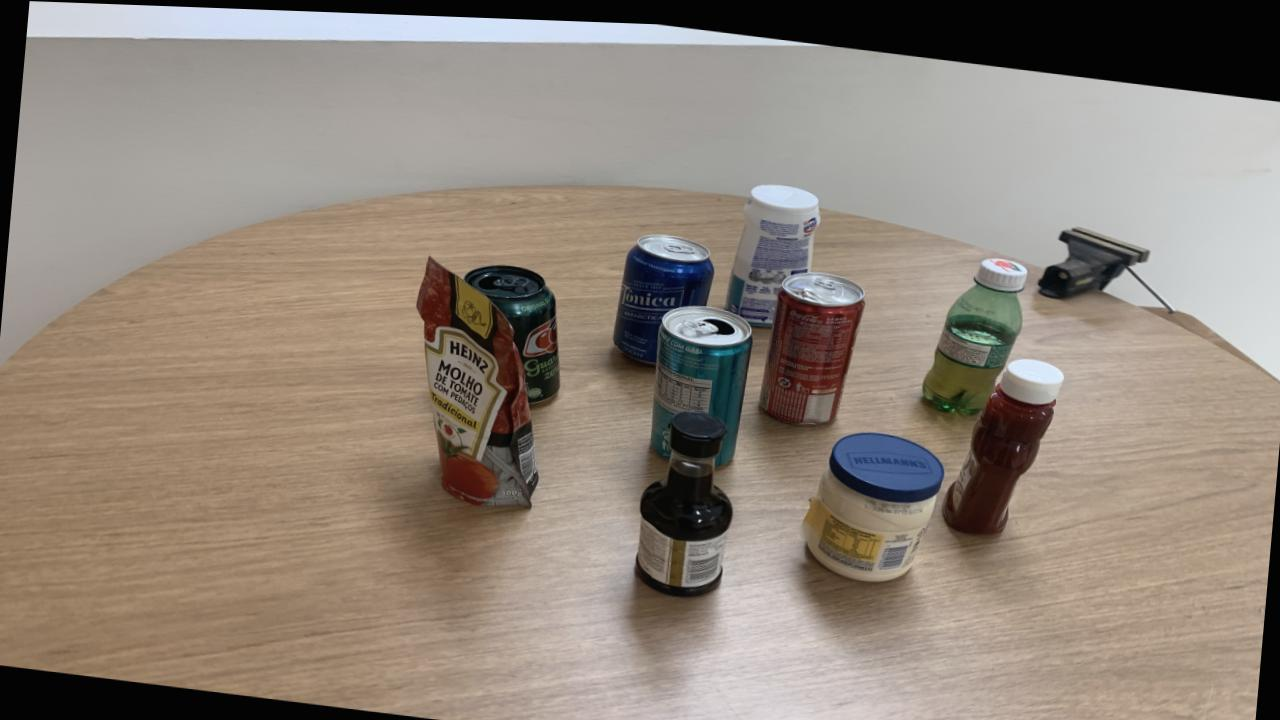Cleaner-Cleanup_Items: (725, 178, 821, 321)
Coke-Drinks: (759, 266, 865, 419)
English_Sauce-Pantry_Items: (634, 406, 732, 592)
Guarana-Drinks: (921, 250, 1028, 406)
Guarana_Can-Drinks: (465, 261, 560, 400)
Ketchup-Pantry_Items: (941, 351, 1064, 526)
Mayonnaise-Pantry_Items: (798, 426, 944, 575)
Tea-Drinks: (650, 300, 752, 460)
Tomato_Sauce-Pantry_Items: (415, 254, 539, 503)
Tonic-Drinks: (613, 229, 713, 359)
